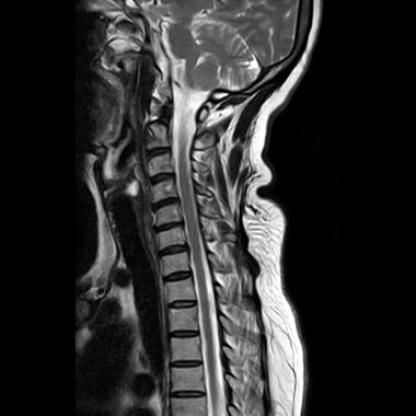Disc Bulgerotation: (153, 219, 185, 232)
Disc Protrusionrotation: (159, 239, 189, 259), (152, 195, 180, 212)
